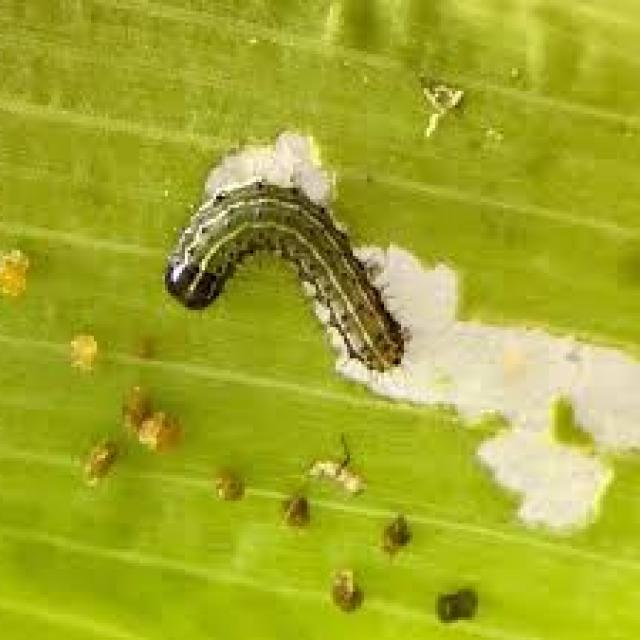armyworm: (165, 176, 408, 375)
